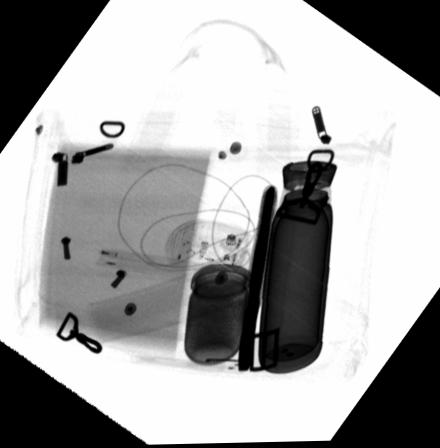Pliers: (237, 185, 277, 373)
